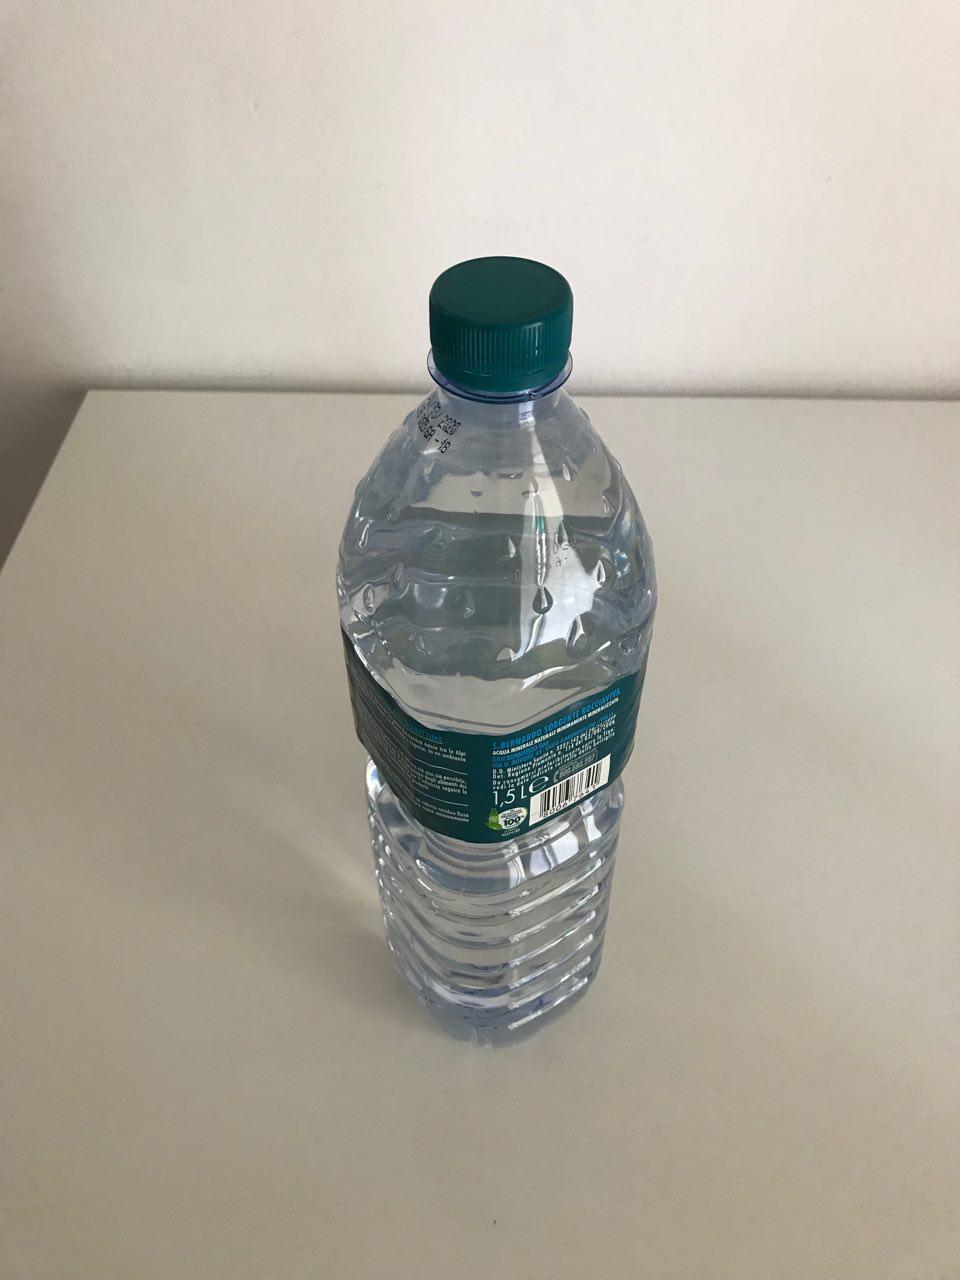san_bernardo: (335, 254, 659, 1050)
